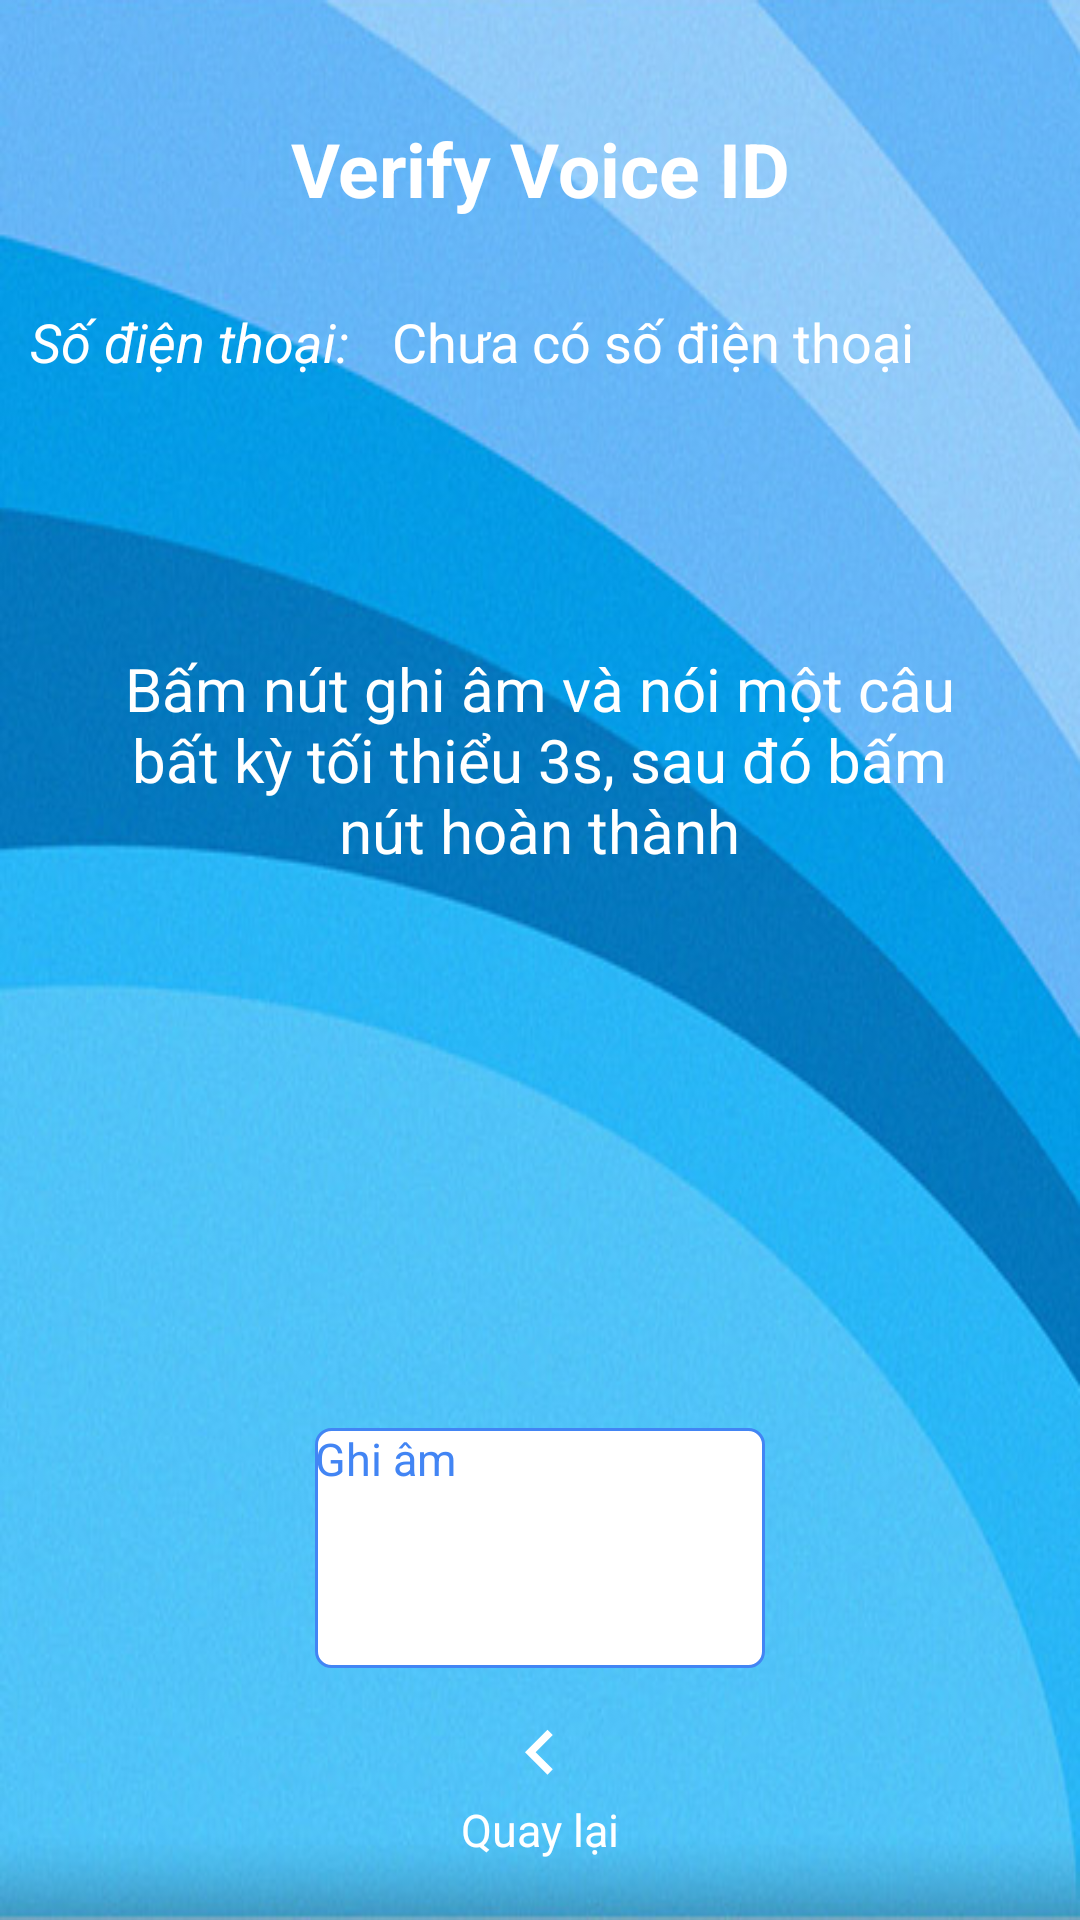

Locate icon controls on the screen. Image size 1080 × 1920, boxes as bbox=[x1, y1, x2, y2].
arrow left: bbox=[525, 1730, 553, 1775]
